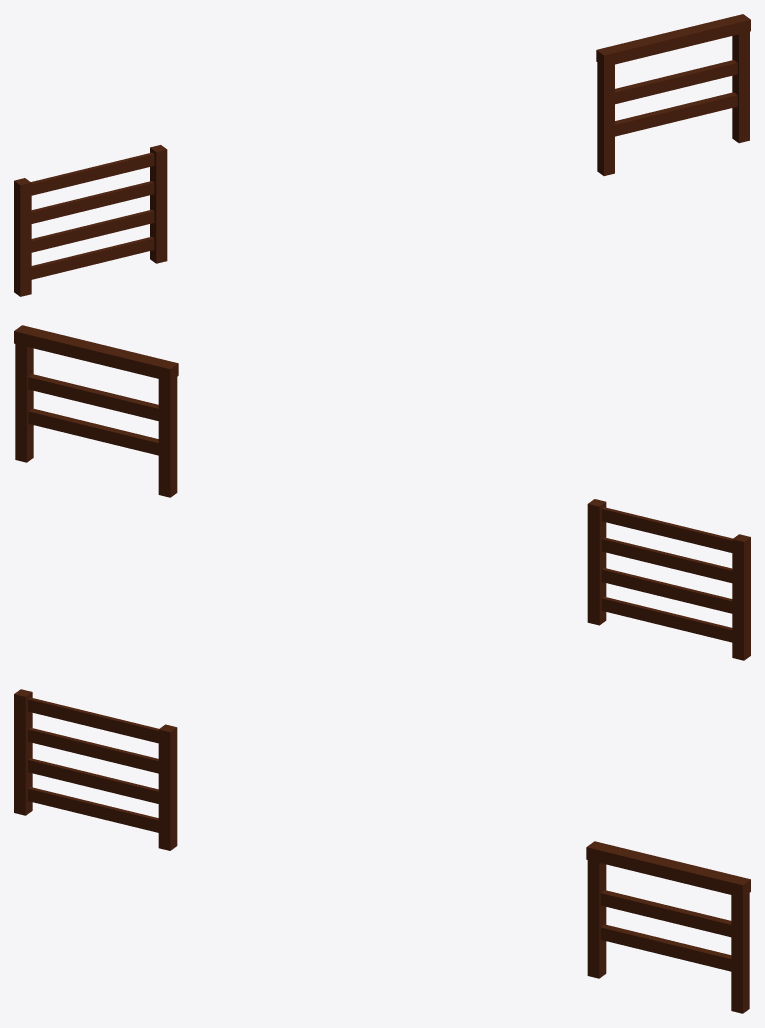
The model's file is prop_fences.glb.
3 renders of one model, top to bottom at view 1: azimuth 30°, elevation 25°; view 2: azimuth 150°, elevation 25°; view 3: azimuth 330°, elevation 25°, orthographic. The views are drawn at different scales.
Visible parts, largest first — view 1: Props with out snow_Fences_0; view 2: Props with out snow_Fences_0; view 3: Props with out snow_Fences_0.
Part boxes in pixels (x1,y1,x2,y2): Props with out snow_Fences_0: (14,14,750,296); Props with out snow_Fences_0: (14,325,750,660); Props with out snow_Fences_0: (14,689,750,1013).
Size of the model in its own units: 12.29 by 2.01 by 0.8805.
